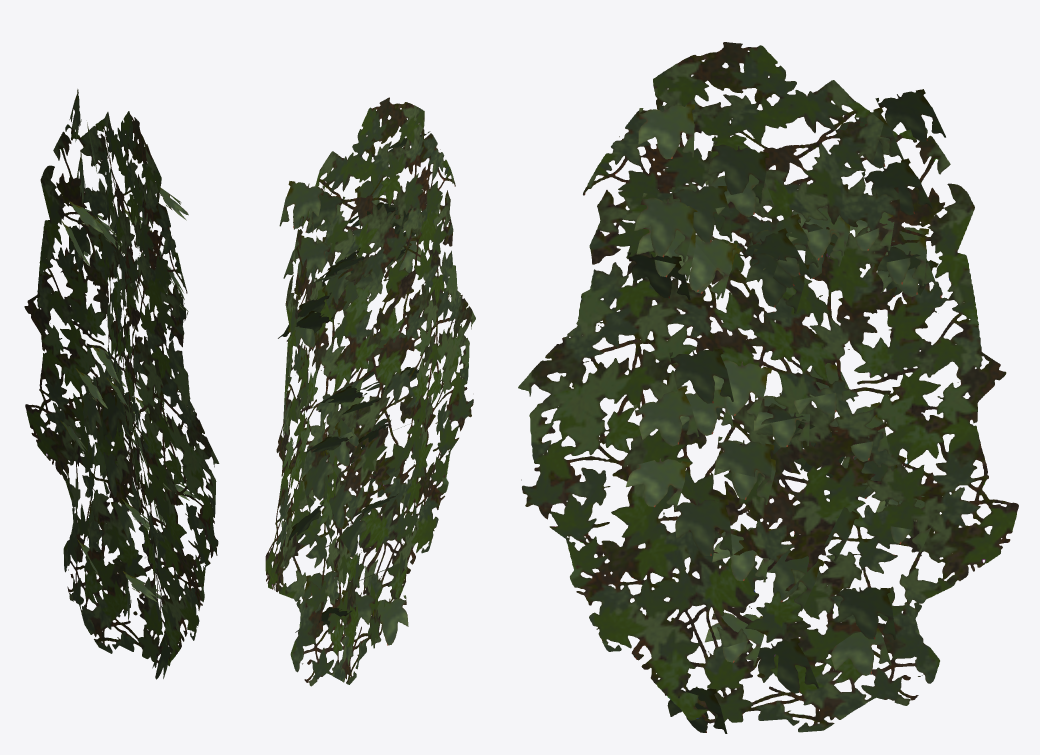
Rendered from SM_ivy_01.glb.
3 renders of one model, left to right at view 1: azimuth 30°, elevation 25°; view 2: azimuth 150°, elevation 25°; view 3: azimuth 270°, elevation 25°, orthographic. The views are drawn at different scales.
Visible parts, largest first — view 1: SM_ivy_01; view 2: SM_ivy_01; view 3: SM_ivy_01.
Boxes of the visible parts, left/top/right/bottom form: SM_ivy_01: left=24, top=89, right=219, bottom=679; SM_ivy_01: left=265, top=97, right=475, bottom=686; SM_ivy_01: left=518, top=42, right=1018, bottom=733.
Bounding box in the file's own units: 0.1914 × 2.14 × 1.4.
Materials: 1 (1 with a texture image).
